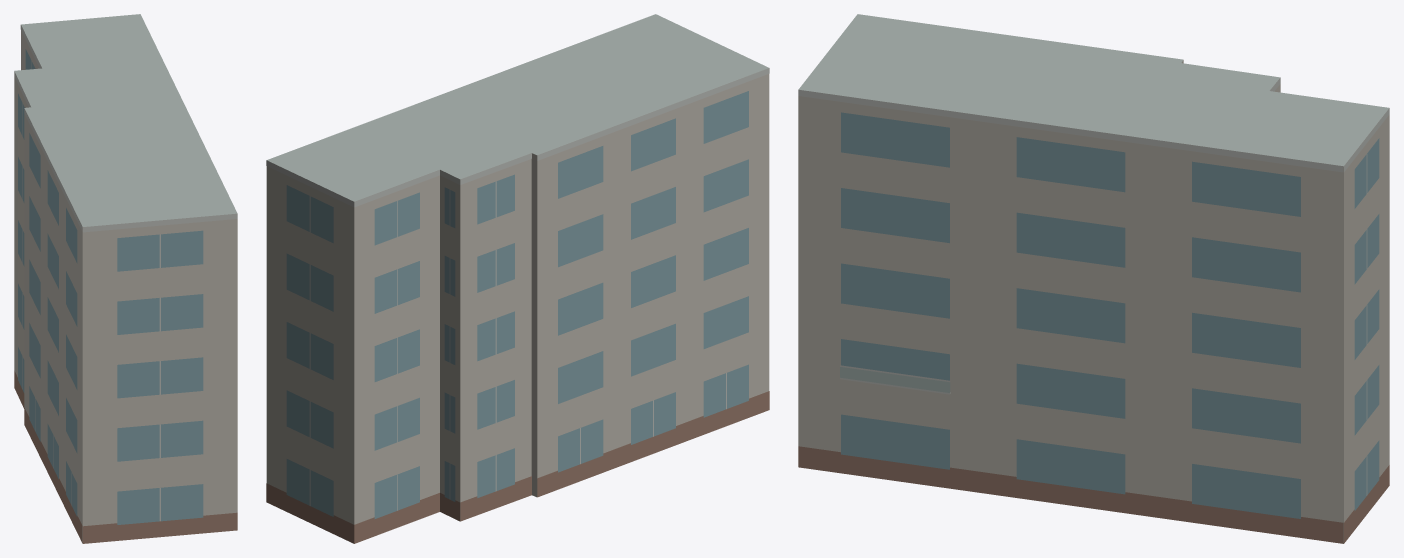
The model's file is survey-upis-32595267.glb.
3 views of the same model, side by side, from view 1: azimuth 30°, elevation 25°; view 2: azimuth 150°, elevation 25°; view 3: azimuth 270°, elevation 25° (orthographic). The views are drawn at different scales.
Parts seen in each view (by area): view 1: survey-upis-32595267.tmp; view 2: survey-upis-32595267.tmp; view 3: survey-upis-32595267.tmp.
Boxes of the visible parts, x1,y1,x2,y2 form: survey-upis-32595267.tmp: (14, 14, 237, 543); survey-upis-32595267.tmp: (266, 14, 769, 543); survey-upis-32595267.tmp: (798, 14, 1389, 543).
Bounding box in the file's own units: 12.63 × 14.6 × 20.73.
